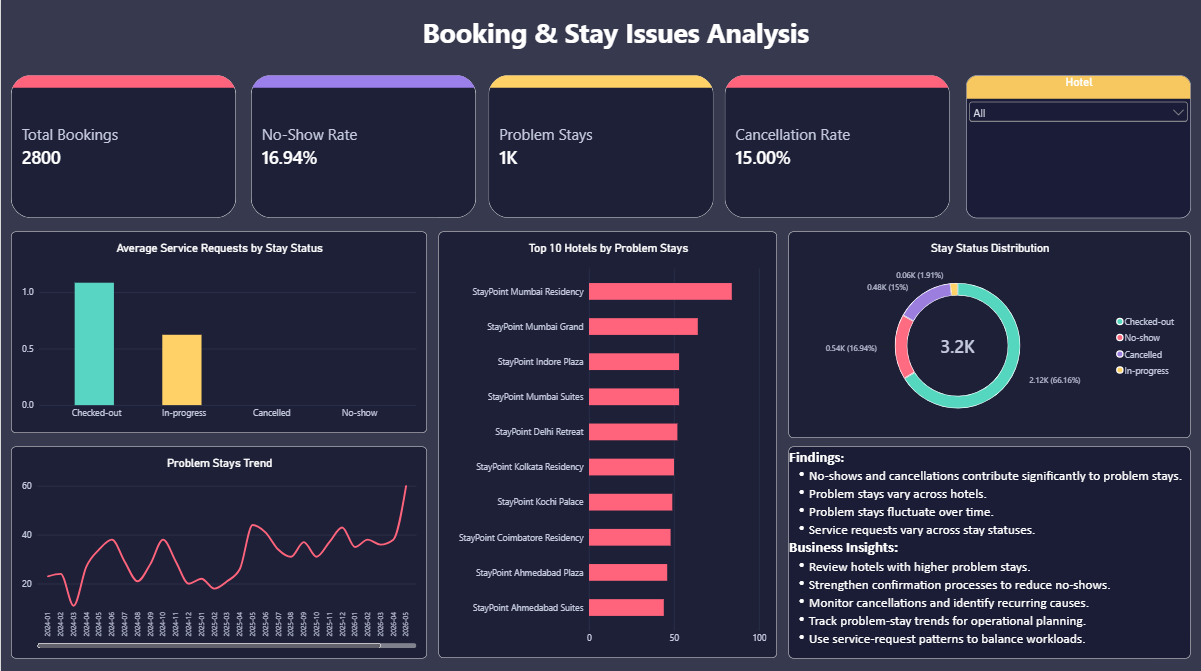

This screenshot's page, from the dashboard's own definition file:
{"tool":"powerbi","page":{"name":"5.5","canvas":[1920,1080],"ordinal":5},"visuals":[{"type":"cardVisual","fields":{"Data":["bookings.Total Bookings"]},"box":[16.9,121.9,360.1,228.8],"z":0},{"type":"cardVisual","fields":{"Data":["stays.Cancellation Rate"]},"box":[1159,121.9,360.1,228.8],"z":1000},{"type":"cardVisual","fields":{"Data":["stays.No-Show Rate"]},"box":[399.5,121.9,360.1,228.8],"z":2000},{"type":"cardVisual","fields":{"Data":["stays.Problem Stays"]},"box":[780.2,121.9,360.1,228.8],"z":3000},{"type":"donutChart","title":"Stay Status Distribution","fields":{"Category":["stays.status"],"Y":["CountNonNull(stays.stay_id)"]},"box":[1260.2,371.3,643.3,330.1],"z":4000},{"type":"clusteredBarChart","title":"Top 10 Hotels by Problem Stays","fields":{"Category":["hotels.hotel_name"],"Y":["stays.Problem Stays"]},"box":[699.5,371.3,542,682.6],"z":5000},{"type":"lineChart","title":"Problem Stays Trend","fields":{"Category":["DateTable.Year Month"],"Y":["stays.Problem Stays"]},"box":[16.9,716.4,665.8,339.4],"z":6000},{"type":"clusteredColumnChart","title":"Average Service Requests by Stay Status","fields":{"Category":["stays.status"],"Y":["stays.Average Service Requests"]},"box":[16.9,371.3,665.8,322.6],"z":7000},{"type":"textbox","box":[1260.2,716.4,643.3,339.4],"z":8000},{"type":"textbox","box":[579.1,23.5,807.1,72.4],"z":9000},{"type":"slicer","title":"Hotel","fields":{"Values":["hotels.hotel_name"]},"box":[1543.4,121.9,360.1,228.8],"z":10000}]}

Visuals, with their boxes in screenshot pixels (x1, y1, x2, y2), scaled from the page's 1920x1080 canvas onto the 1201x671 screenshot:
cardVisual - bookings.Total Bookings: 11/76/236/218
cardVisual - stays.Cancellation Rate: 725/76/950/218
cardVisual - stays.No-Show Rate: 250/76/475/218
cardVisual - stays.Problem Stays: 488/76/713/218
"Stay Status Distribution" donutChart: 788/231/1191/436
"Top 10 Hotels by Problem Stays" clusteredBarChart: 438/231/777/655
"Problem Stays Trend" lineChart: 11/445/427/656
"Average Service Requests by Stay Status" clusteredColumnChart: 11/231/427/431
textbox: 788/445/1191/656
textbox: 362/15/867/60
"Hotel" slicer: 965/76/1191/218
